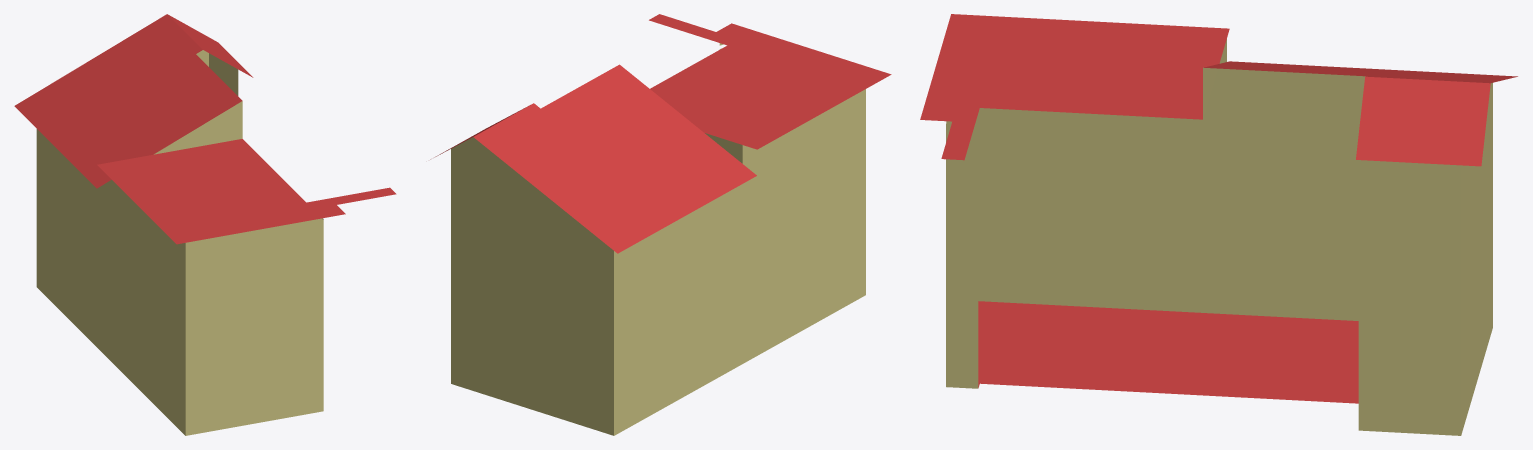
3 renders of one model, left to right at view 1: azimuth 30°, elevation 25°; view 2: azimuth 150°, elevation 25°; view 3: azimuth 270°, elevation 25°, orthographic. The views are drawn at different scales.
Bounding box in the file's own units: 7.97 × 12.83 × 7.85.
